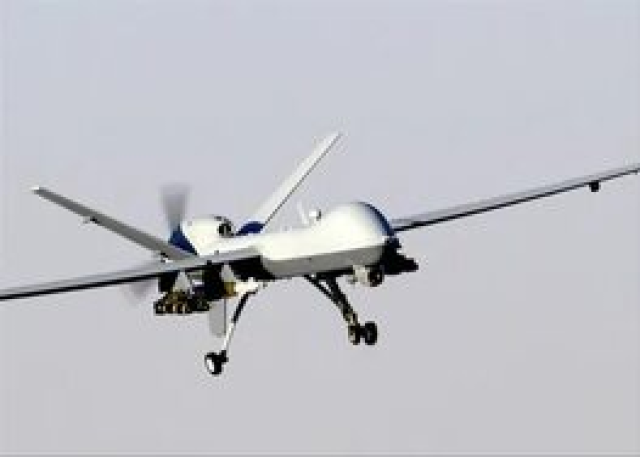military drone: (0, 131, 640, 375)
